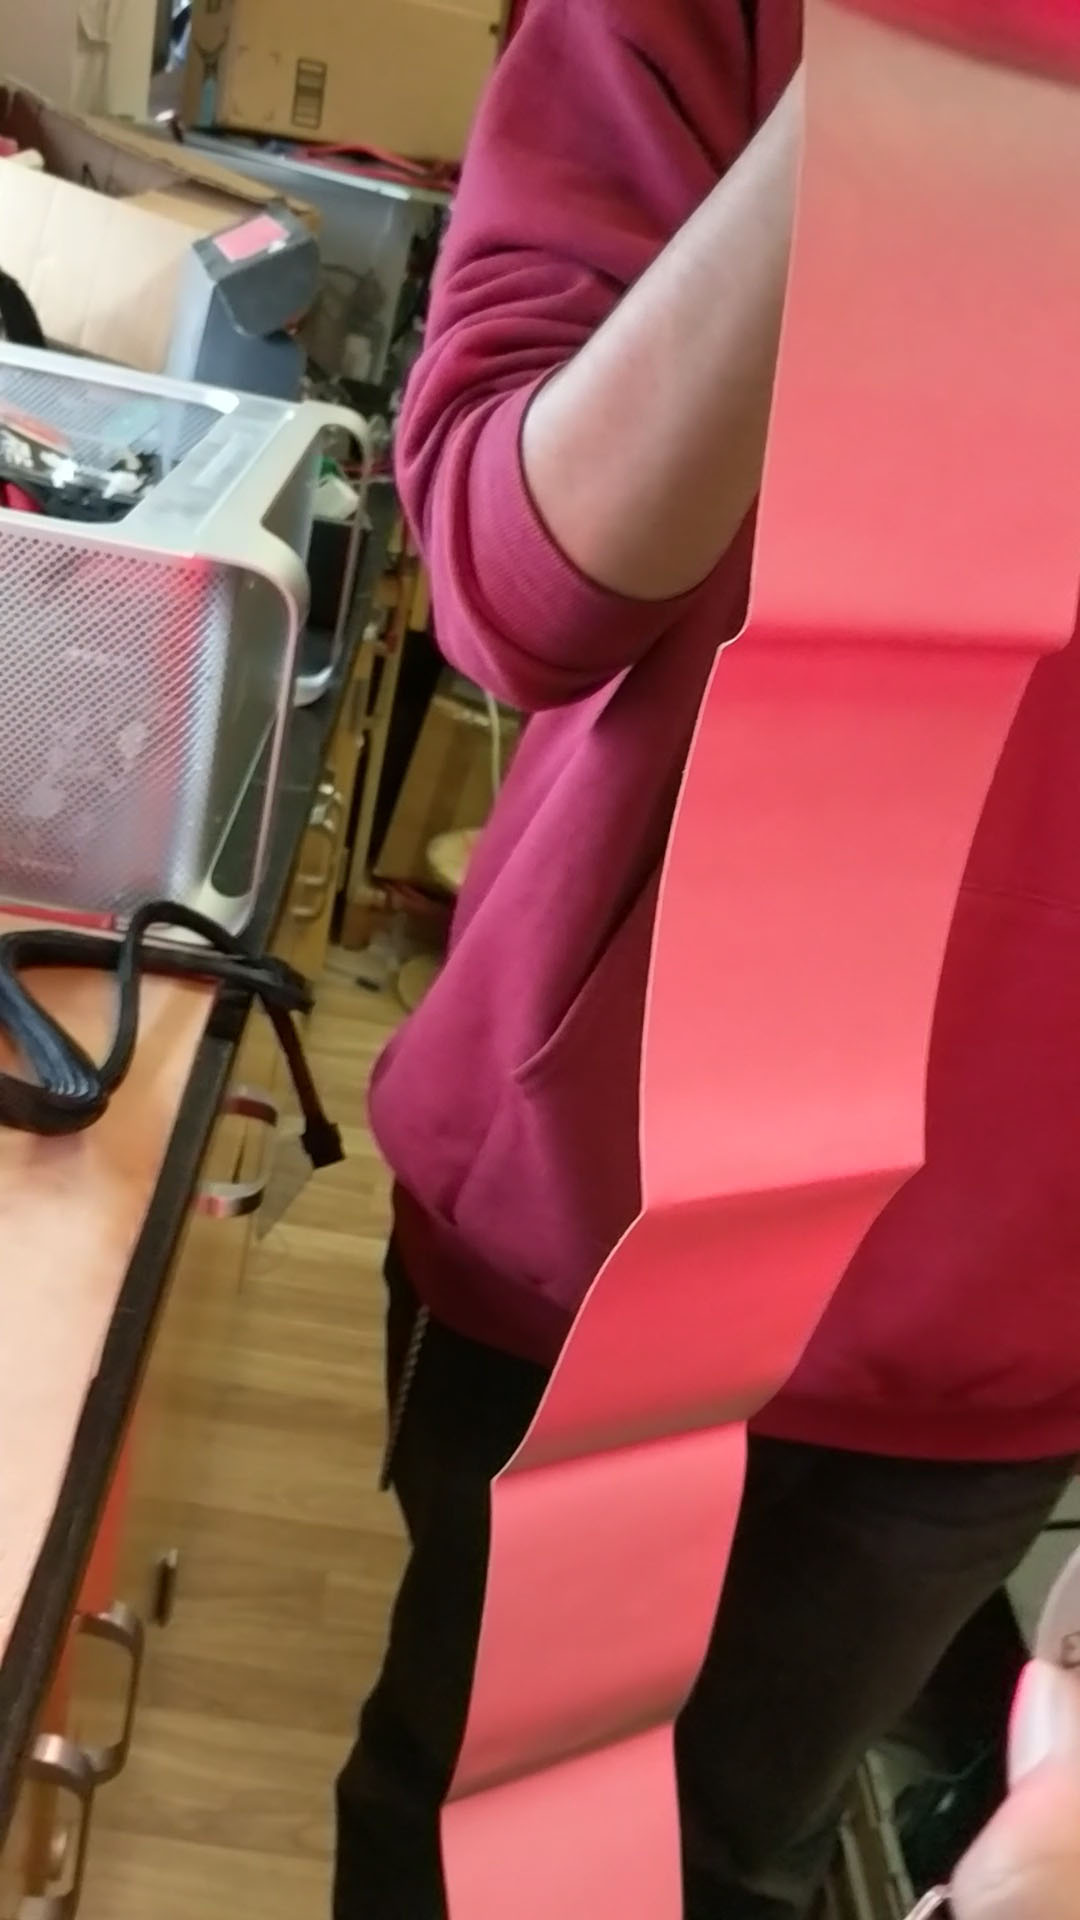gear: (444, 0, 1080, 1920)
